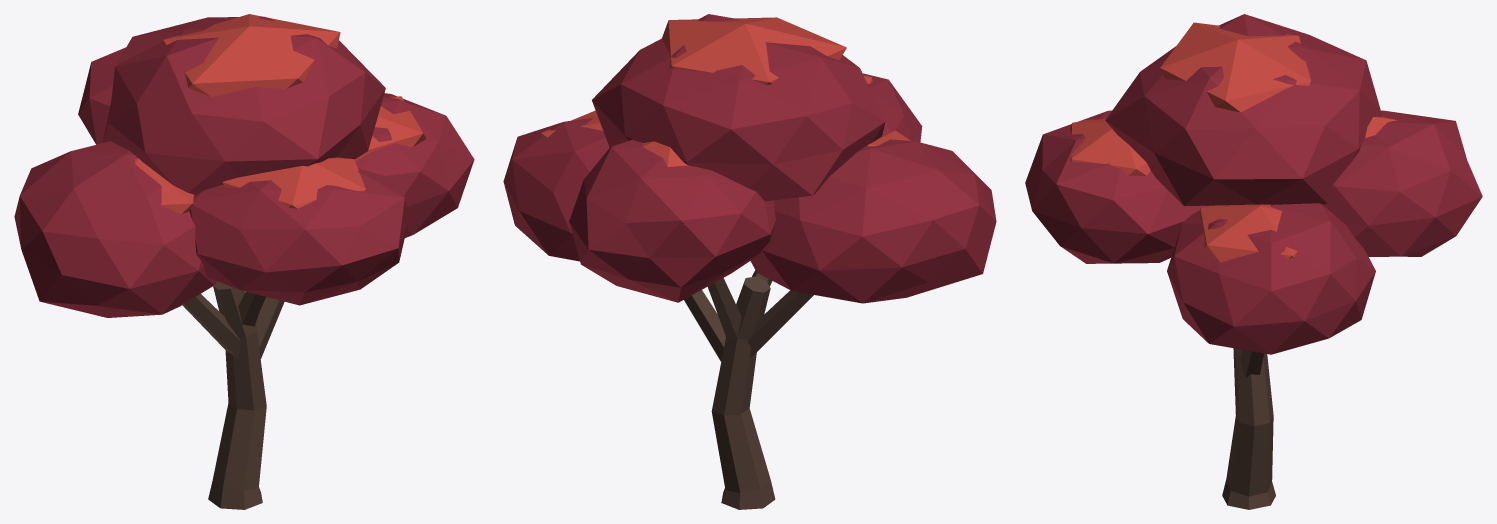
File: maple-red.glb
3 views of the same model, side by side, from view 1: azimuth 30°, elevation 25°; view 2: azimuth 150°, elevation 25°; view 3: azimuth 270°, elevation 25° (orthographic). The views are drawn at different scales.
Parts seen in each view (by area): view 1: MapleRed_Leaves, MapleRed_LeavesLight, MapleRed_Trunk; view 2: MapleRed_Leaves, MapleRed_Trunk, MapleRed_LeavesLight; view 3: MapleRed_Leaves, MapleRed_LeavesLight, MapleRed_Trunk.
Part boxes in pixels (box(x1,y1,x2,y2)): MapleRed_Leaves: box(14, 16, 474, 317); MapleRed_LeavesLight: box(135, 14, 426, 214); MapleRed_Trunk: box(182, 281, 284, 509); MapleRed_Leaves: box(503, 14, 996, 303); MapleRed_Trunk: box(684, 270, 813, 509); MapleRed_LeavesLight: box(541, 17, 910, 173); MapleRed_Leaves: box(1025, 14, 1482, 354); MapleRed_LeavesLight: box(1070, 22, 1397, 262); MapleRed_Trunk: box(1222, 348, 1275, 509).
Size of the model in its own units: 18.2 by 18.42 by 16.53.
